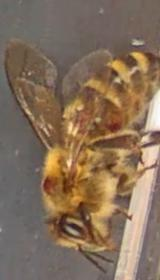varroa_mite: (35, 164, 70, 196)
